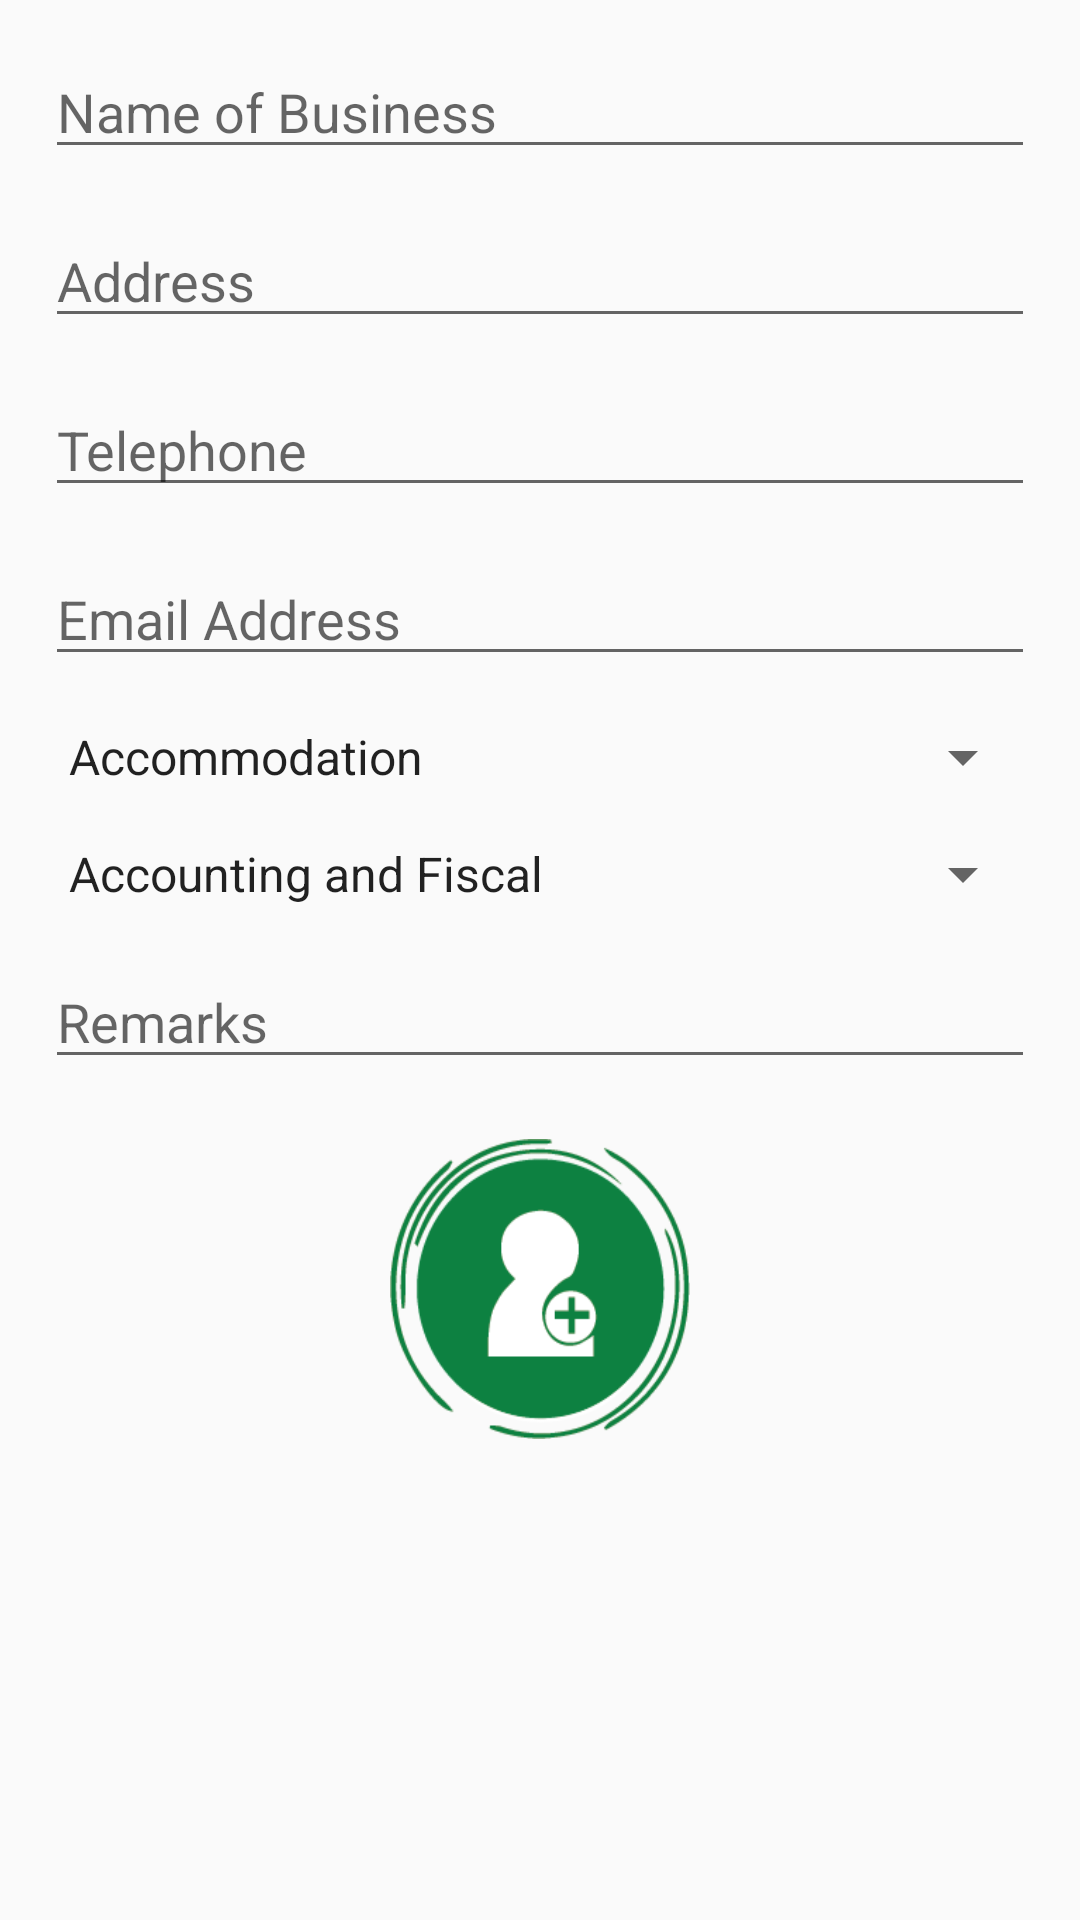

Screen size 1080 x 1920. Icon name, then its center in pixels as (x=x, y=y):
iconaddbtn: (x=540, y=1289)
